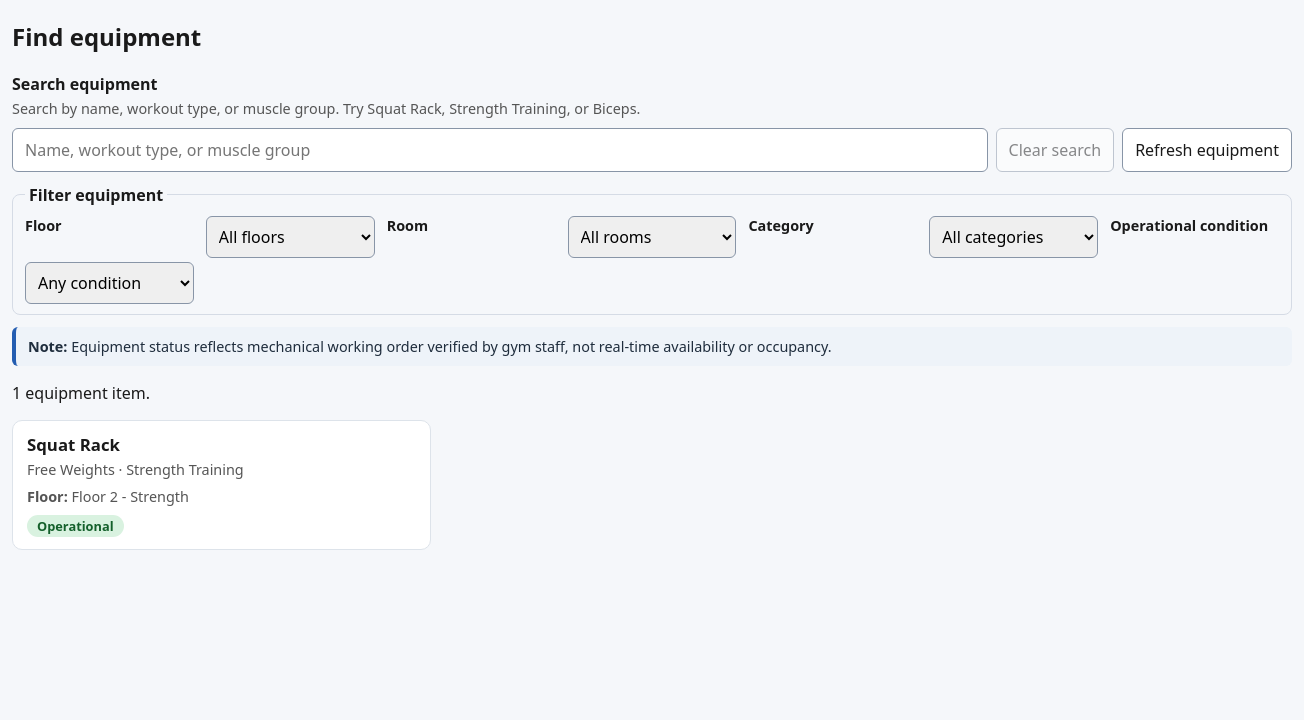
Test: cancels obsolete requests and ignores a late response even if fetch ignores abort
The width and height of the screenshot is (1304, 720).
expect the heading "Squat Rack" is shown: met, box [27,433,120,456]
Type "Squat" into the search field.
click(500, 150); type("Squat")  # box [12,128,988,172]
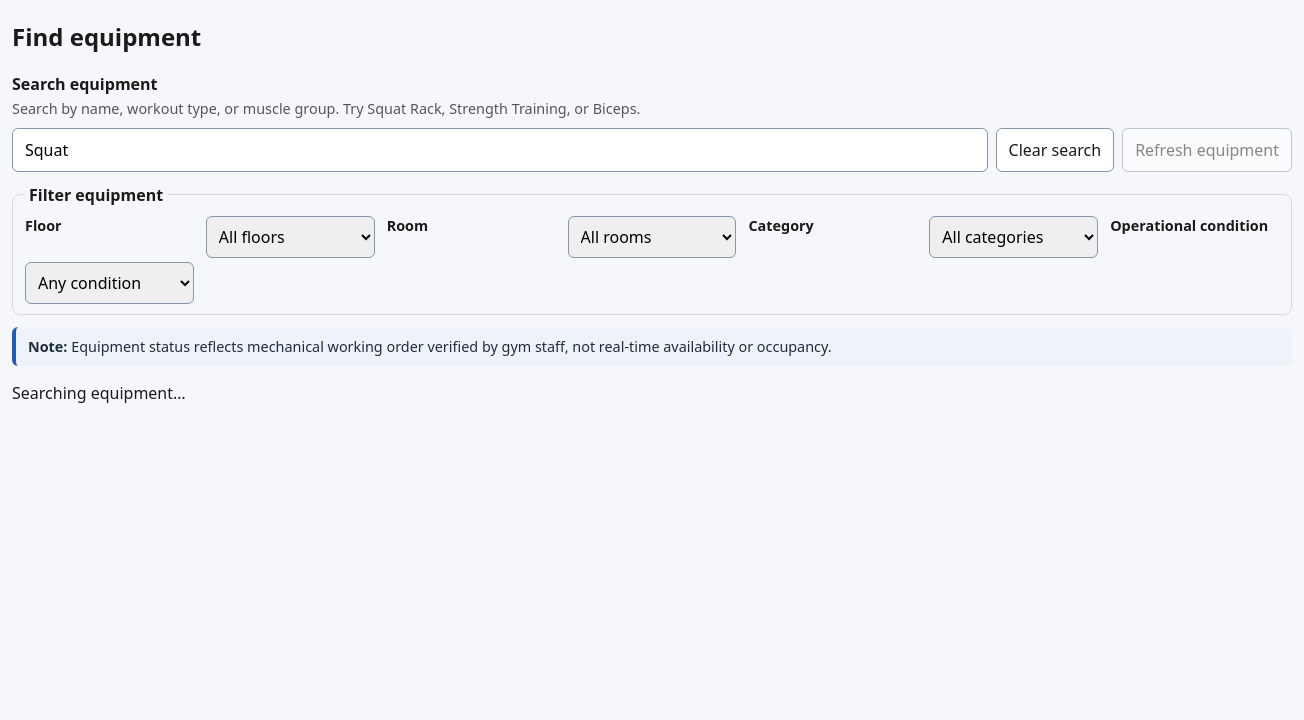
Replace the text in the search field with "Biceps" at coordinates (500, 150), box [12,128,988,172]
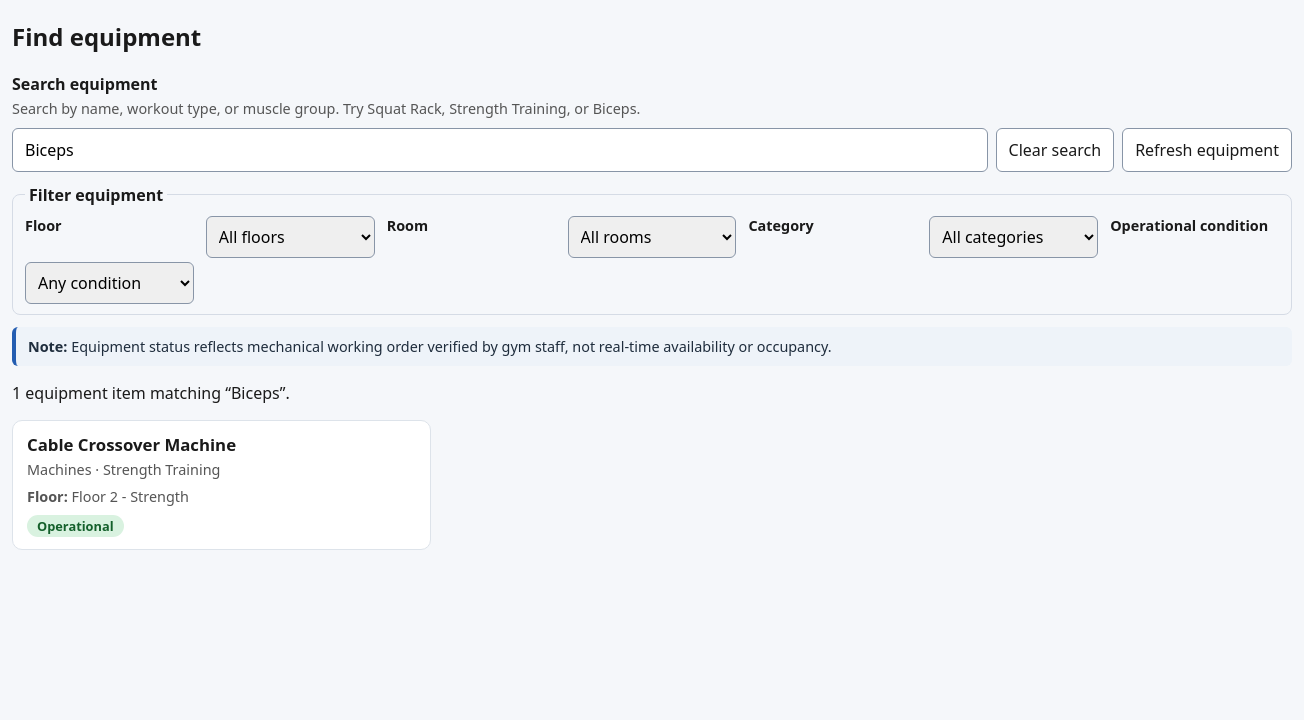
expect the heading "Cable Crossover Machine" is shown: met, box [27,433,236,456]
